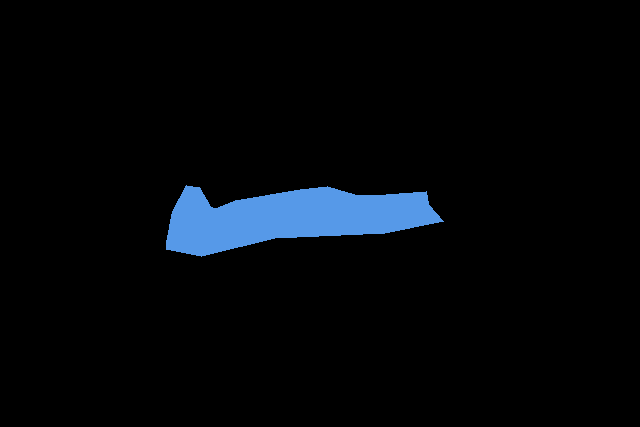Airplane: (166, 185, 444, 256)
